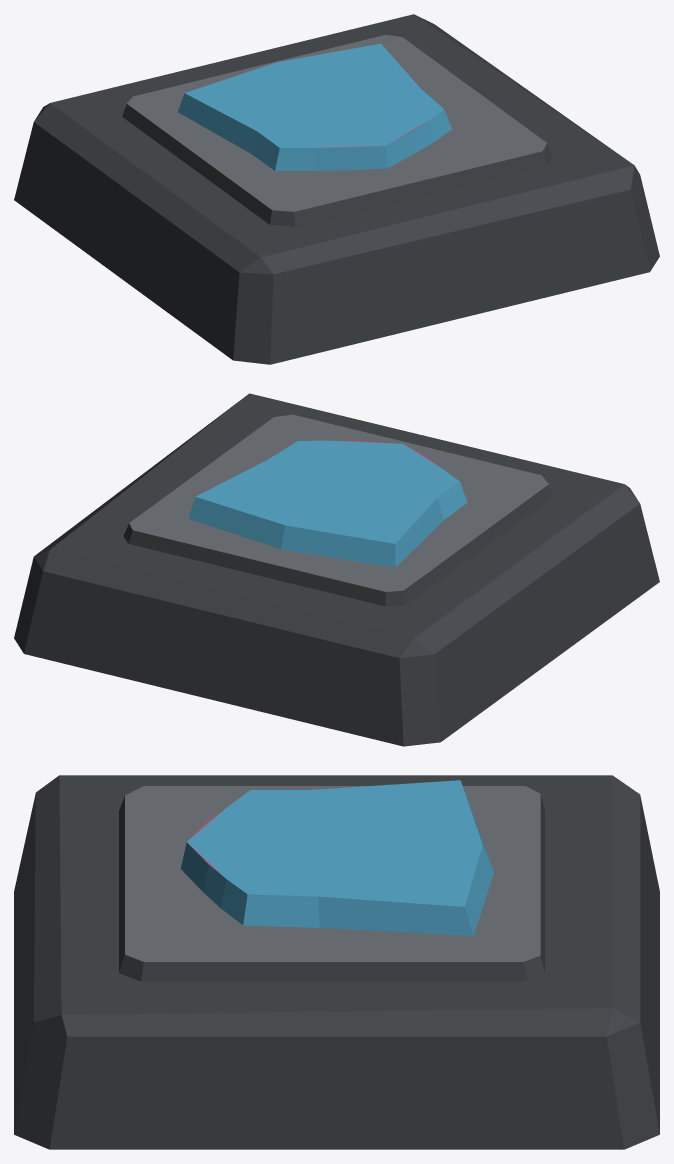
File: PowerUp_BodyArmor.fbx
3 renders of one model, top to bottom at view 1: azimuth 30°, elevation 25°; view 2: azimuth 150°, elevation 25°; view 3: azimuth 270°, elevation 25°, orthographic. The views are drawn at different scales.
Parts seen in each view (by area): view 1: PowerUp_BodyArmor; view 2: PowerUp_BodyArmor; view 3: PowerUp_BodyArmor.
Part boxes in pixels (x1,y1,x2,y2): PowerUp_BodyArmor: (14,14,659,364); PowerUp_BodyArmor: (14,393,659,746); PowerUp_BodyArmor: (14,775,659,1149).
Bounding box in the file's own units: 56.87 × 16.11 × 56.87.
